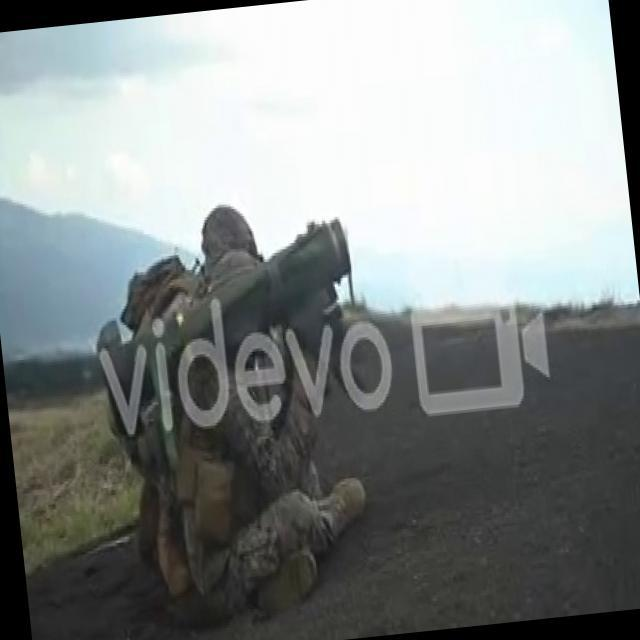rocket: (86, 214, 365, 450)
